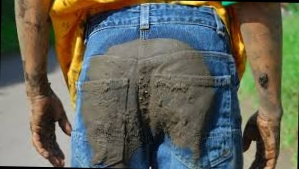earth: (90, 58, 201, 137), (113, 42, 190, 59), (100, 140, 133, 162)
